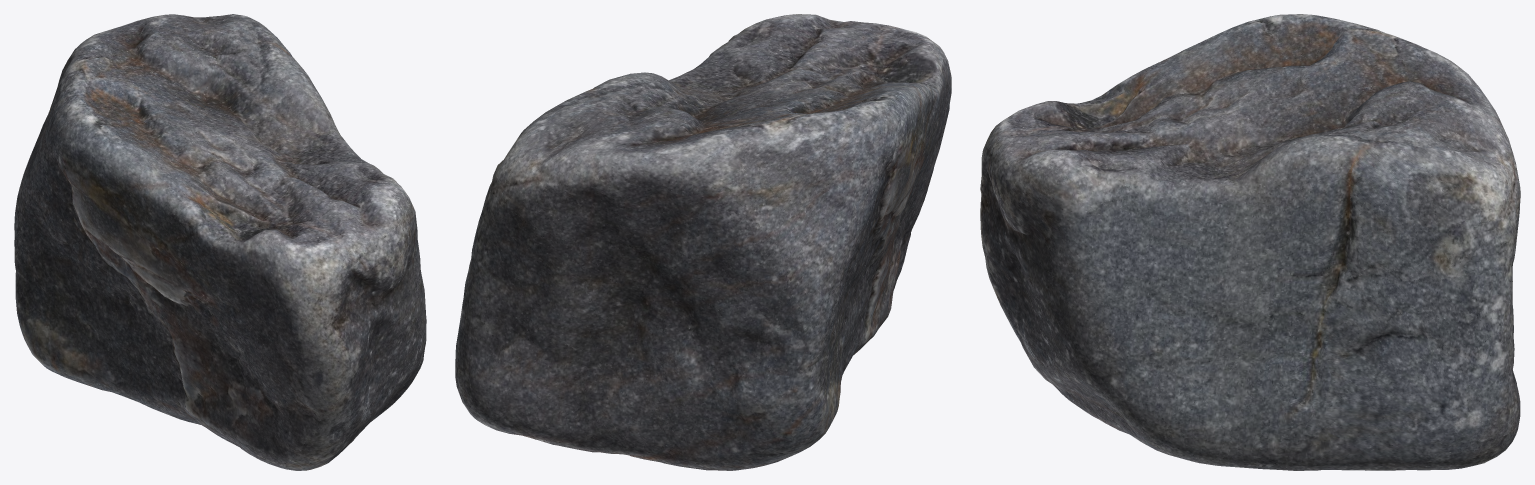
3 renders of one model, left to right at view 1: azimuth 30°, elevation 25°; view 2: azimuth 150°, elevation 25°; view 3: azimuth 270°, elevation 25°, orthographic. The views are drawn at different scales.
Visible parts, largest first — view 1: rock-017; view 2: rock-017; view 3: rock-017.
Boxes of the visible parts, x1,y1,x2,y2 form: rock-017: (14,14,426,470); rock-017: (455,14,951,470); rock-017: (980,14,1520,470).
Bounding box in the file's own units: 1.46 × 1.39 × 2.
Materials: 1 (1 with a texture image).
